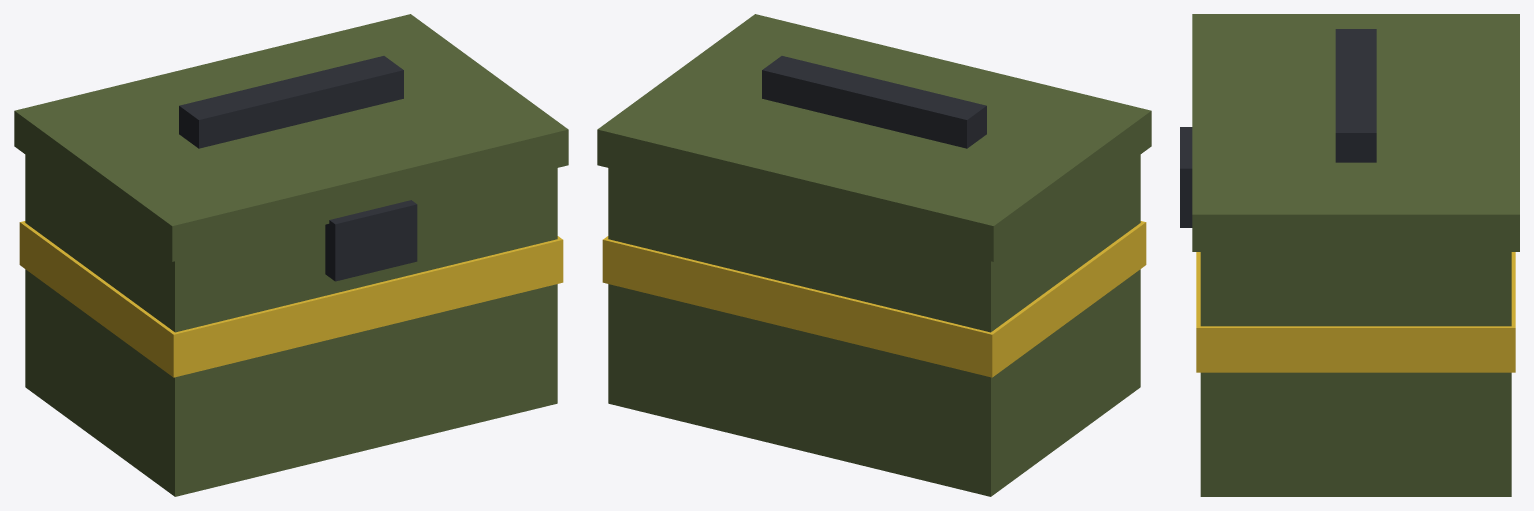
File: loot_ammo.glb
3 views of the same model, side by side, from view 1: azimuth 30°, elevation 25°; view 2: azimuth 150°, elevation 25°; view 3: azimuth 270°, elevation 25° (orthographic). The views are drawn at different scales.
Visible parts, largest first — view 1: Ammo; view 2: Ammo; view 3: Ammo.
Boxes of the visible parts, x1,y1,x2,y2 form: Ammo: (14, 14, 568, 496); Ammo: (597, 14, 1151, 496); Ammo: (1180, 14, 1519, 496).
Size of the model in its own units: 0.58 by 0.43 by 0.415.
